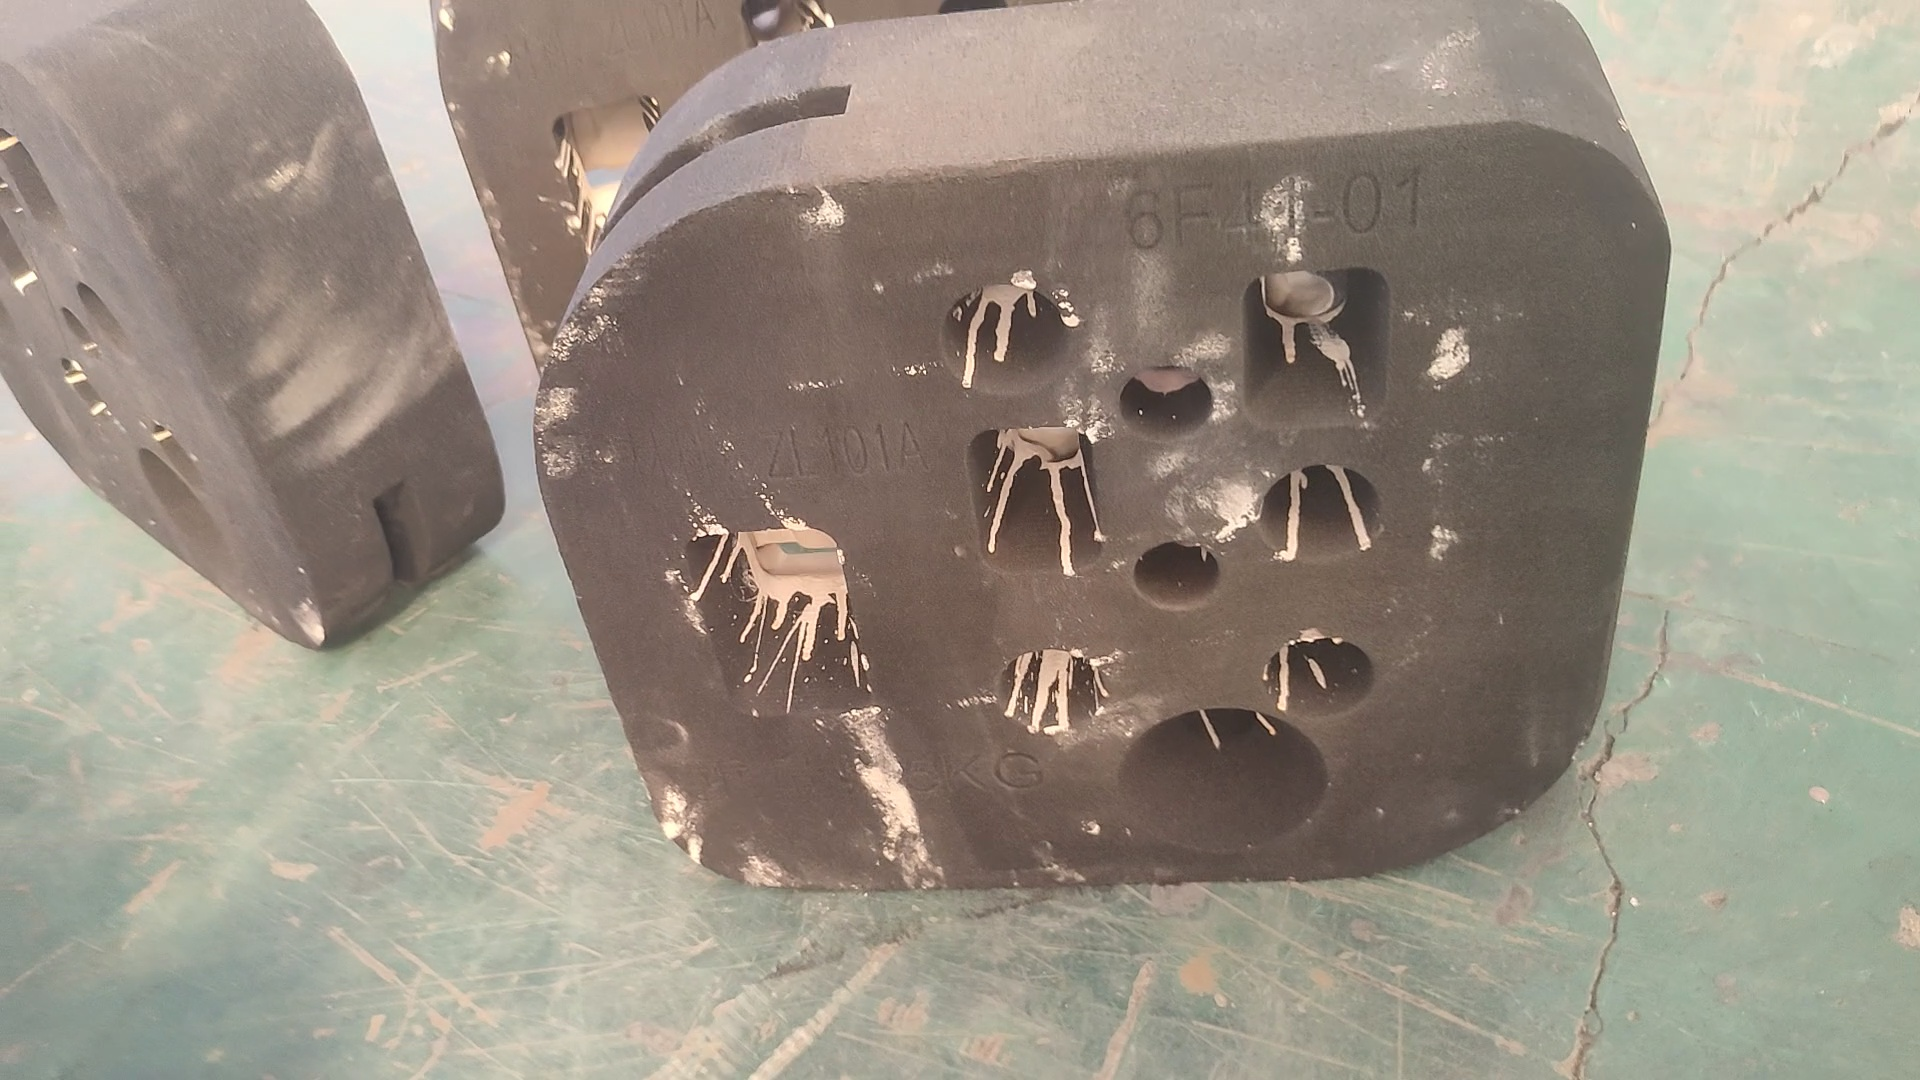pouring hole: (1121, 707, 1327, 851), (137, 447, 240, 585)
